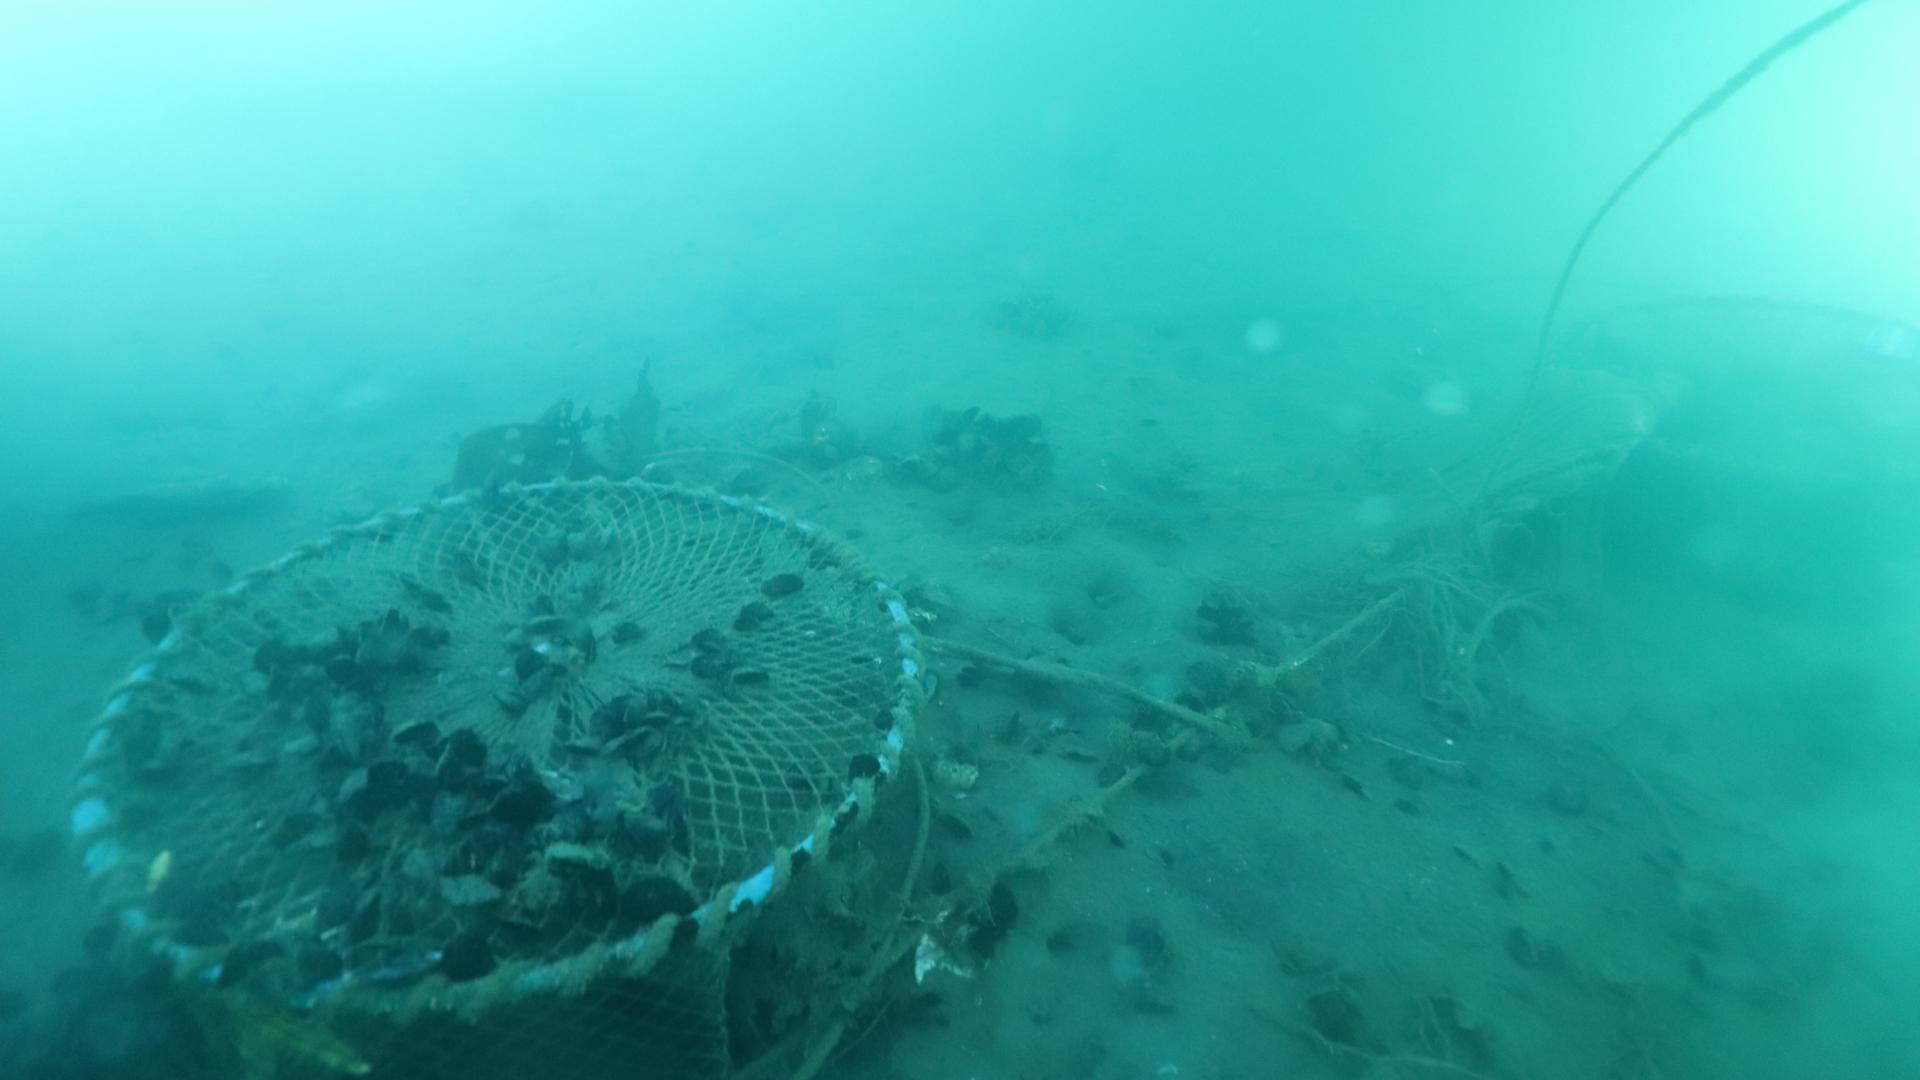circular fish trap: (75, 465, 928, 1080)
